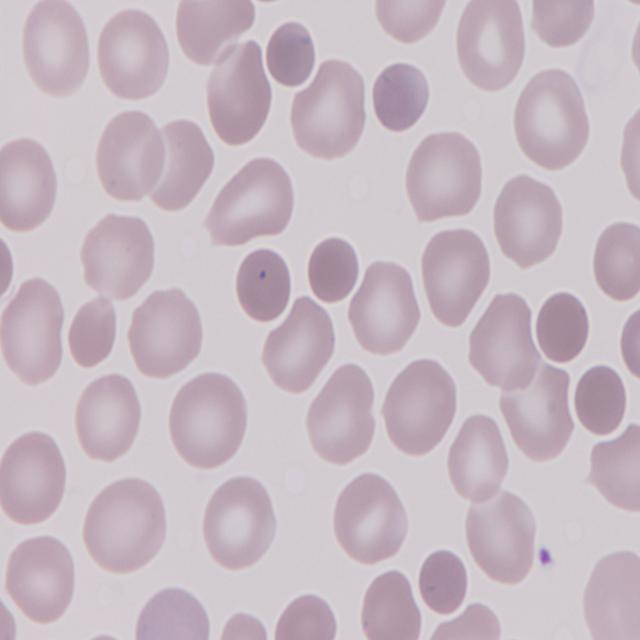RBC: (81, 474, 169, 576), (512, 70, 594, 176), (286, 64, 371, 164), (301, 361, 380, 468), (168, 371, 252, 471), (495, 358, 575, 463), (208, 155, 296, 247), (345, 256, 421, 361), (93, 3, 172, 104), (404, 130, 487, 226), (261, 298, 340, 398), (332, 472, 412, 570), (197, 474, 274, 574), (380, 360, 460, 456), (418, 228, 493, 330), (126, 282, 204, 380), (490, 168, 564, 271), (452, 0, 530, 95), (468, 288, 541, 389), (19, 0, 94, 98), (206, 44, 274, 152), (0, 278, 68, 385), (94, 106, 168, 204), (3, 532, 80, 624), (465, 489, 538, 586), (80, 211, 158, 301), (74, 371, 146, 466), (0, 431, 69, 529), (446, 413, 514, 507), (0, 133, 62, 234), (174, 0, 258, 66), (581, 548, 640, 640), (588, 428, 640, 516), (357, 568, 420, 640), (135, 582, 213, 640), (65, 294, 119, 372), (526, 1, 600, 57), (591, 220, 640, 304), (372, 0, 454, 47), (275, 590, 343, 640), (615, 92, 639, 208), (434, 605, 506, 640), (209, 610, 277, 640)
Spherocyte: (370, 56, 436, 134), (230, 245, 294, 323), (572, 364, 632, 442), (534, 290, 592, 369), (415, 546, 470, 620), (304, 238, 360, 308), (264, 18, 314, 86)
